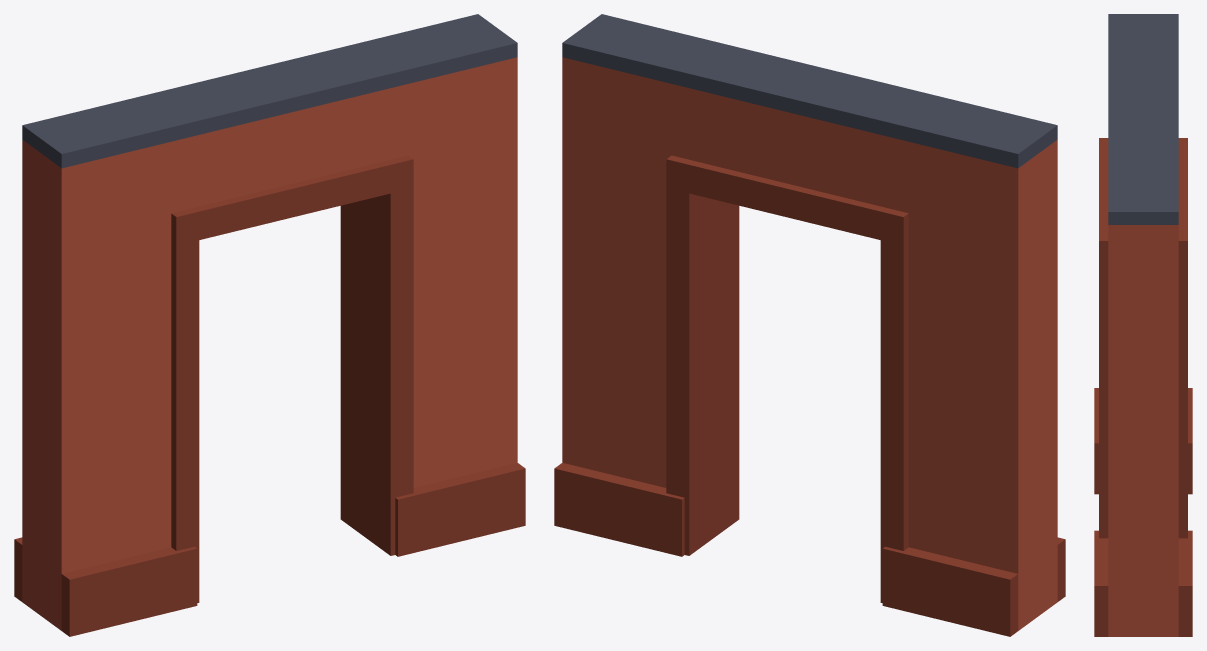
File: wall-door.glb
The picture shows the model from 3 angles, left to right: view 1: azimuth 30°, elevation 25°; view 2: azimuth 150°, elevation 25°; view 3: azimuth 270°, elevation 25°; orthographic projection. The views are drawn at different scales.
Parts seen in each view (by area): view 1: wall-door; view 2: wall-door; view 3: wall-door.
Part boxes in pixels (bbox=[...]): wall-door: bbox=[14, 14, 525, 636]; wall-door: bbox=[554, 14, 1065, 636]; wall-door: bbox=[1094, 14, 1192, 636].
Bounding box in the file's own units: 1 × 1 × 0.21.
1 material, 1 textured.
